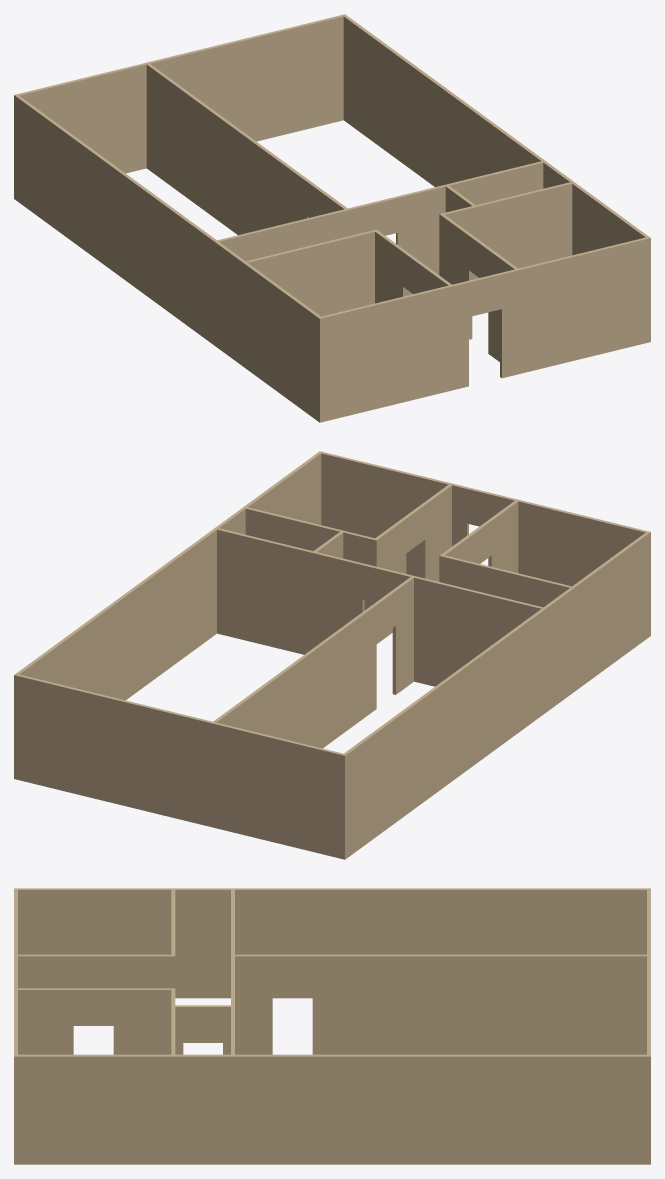
The model's file is house_walls.dae.
3 renders of one model, top to bottom at view 1: azimuth 30°, elevation 25°; view 2: azimuth 150°, elevation 25°; view 3: azimuth 270°, elevation 25°, orthographic. The views are drawn at different scales.
Visible parts, largest first — view 1: Cube; view 2: Cube; view 3: Cube.
Boxes of the visible parts, x1=… form: Cube: x1=14, y1=14, x2=650, y2=422; Cube: x1=14, y1=451, x2=650, y2=859; Cube: x1=14, y1=888, x2=650, y2=1164.
Size of the model in its own units: 10 by 16 by 3.
